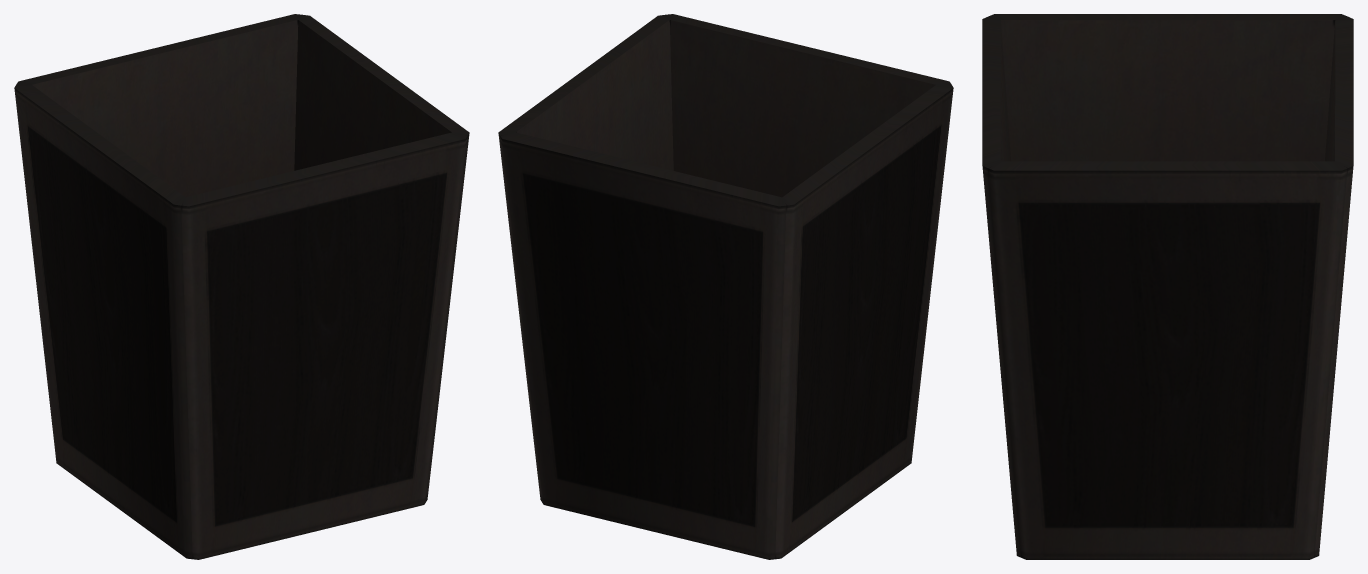
File: p_pent_wastebasket_lod0.glb
3 views of the same model, side by side, from view 1: azimuth 30°, elevation 25°; view 2: azimuth 150°, elevation 25°; view 3: azimuth 270°, elevation 25° (orthographic). The views are drawn at different scales.
Visible parts, largest first — view 1: surf0; view 2: surf0; view 3: surf0.
Boxes of the visible parts, x1,y1,x2,y2 form: surf0: [14, 14, 469, 559]; surf0: [498, 14, 953, 559]; surf0: [982, 14, 1353, 559].
Size of the model in its own units: 14.73 by 17.76 by 14.73.
